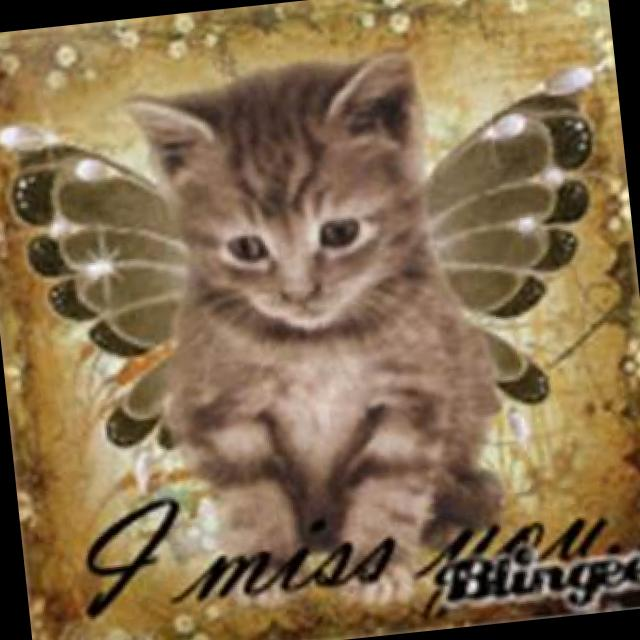animal: (116, 41, 522, 627)
